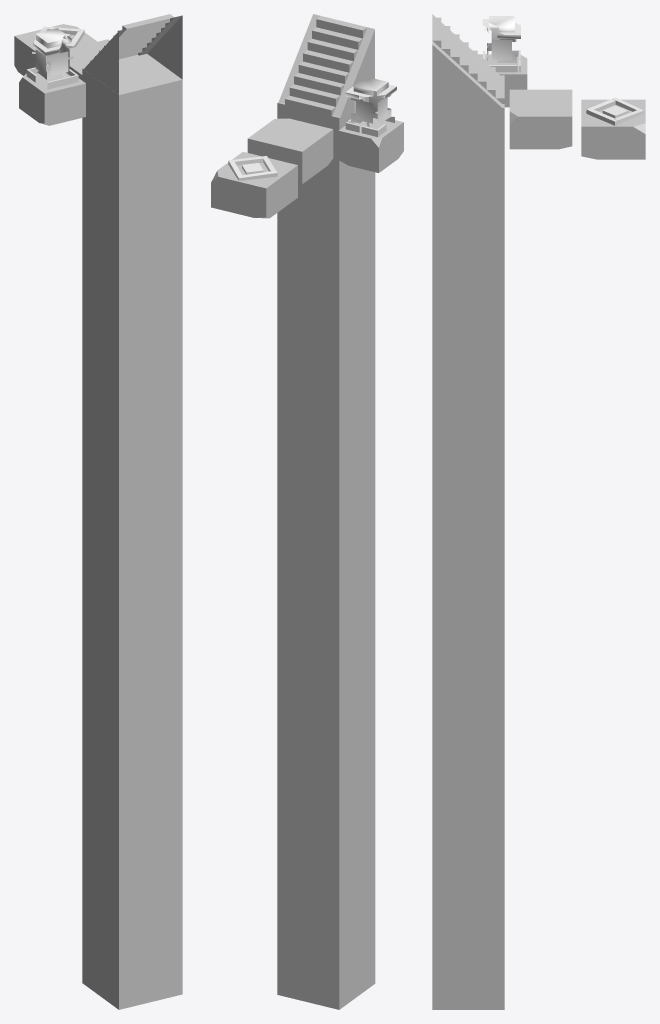
Rendered from BoatDock-FloatingTiles.fbx.
3 views of the same model, side by side, from view 1: azimuth 30°, elevation 25°; view 2: azimuth 150°, elevation 25°; view 3: azimuth 270°, elevation 25° (orthographic). The views are drawn at different scales.
Visible parts, largest first — view 1: Departure_PierSection2 (11), Whitebox_Stairs_Inset, Departure_PierSection2 (9), lantern, Departure_PierSection2 (10), Slab; view 2: Departure_PierSection2 (11), Whitebox_Stairs_Inset, Departure_PierSection2 (10), Slab, Departure_PierSection2 (9), lantern; view 3: Departure_PierSection2 (11), Whitebox_Stairs_Inset, Slab, Departure_PierSection2 (10), lantern, Departure_PierSection2 (9).
Boxes of the visible parts, <box> form: Departure_PierSection2 (11): <box>82,54,182,1009</box>; Whitebox_Stairs_Inset: <box>84,14,182,94</box>; Departure_PierSection2 (9): <box>19,70,85,125</box>; lantern: <box>26,28,78,89</box>; Departure_PierSection2 (10): <box>14,24,97,75</box>; Slab: <box>58,39,108,80</box>; Departure_PierSection2 (11): <box>277,97,375,1009</box>; Whitebox_Stairs_Inset: <box>278,14,374,118</box>; Departure_PierSection2 (10): <box>211,152,297,218</box>; Slab: <box>247,118,333,184</box>; Departure_PierSection2 (9): <box>338,118,403,172</box>; lantern: <box>345,78,396,136</box>; Departure_PierSection2 (11): <box>432,104,504,1009</box>; Whitebox_Stairs_Inset: <box>432,14,504,107</box>; Slab: <box>509,89,572,149</box>; Departure_PierSection2 (10): <box>581,99,645,159</box>; lantern: <box>482,16,520,72</box>; Departure_PierSection2 (9): <box>477,54,527,107</box>.
Bounding box in the file's own units: 1.81 × 14.7 × 2.94.
Materials: 4 (1 with a texture image).
